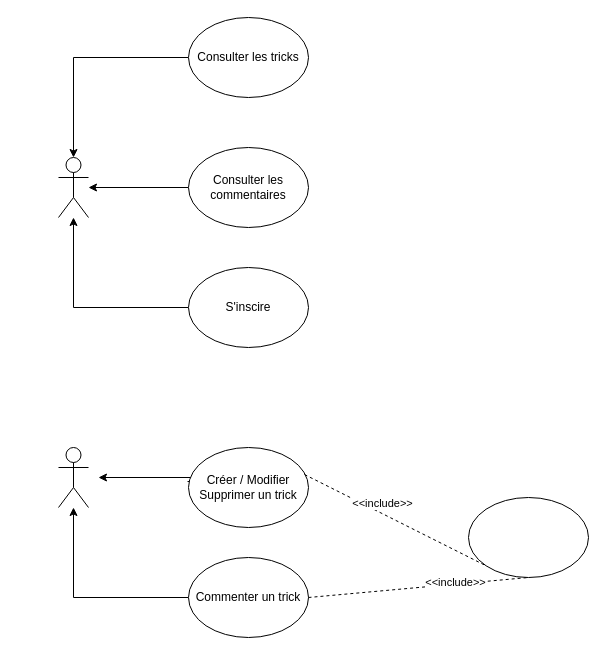
This 606x655 diagram has some shape labels left out. The centre of each missing label's shape, as x and y in pixels:
"S'authentifier" goes at pixel 528 537.
"Utilisateur" goes at pixel 73 187.
"Utilisateur authentifié" goes at pixel 73 477.
